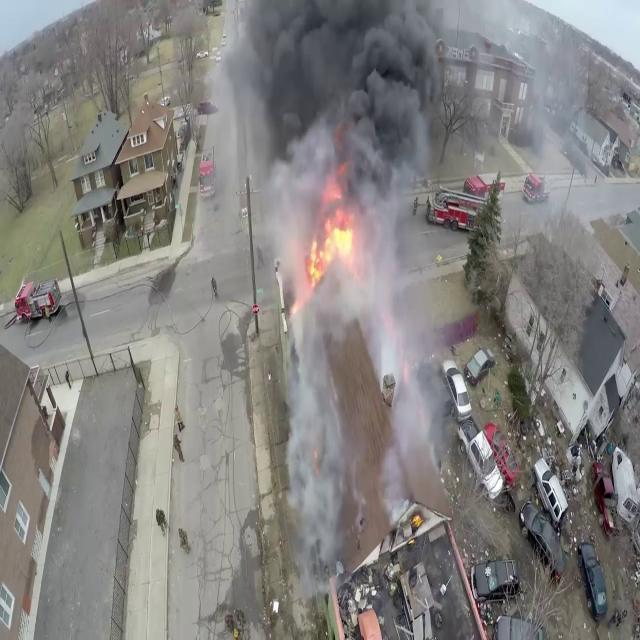Fire: (306, 202, 361, 290)
Smoke: (222, 0, 450, 231), (368, 229, 448, 529), (275, 286, 347, 546)
